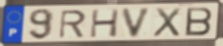9: (28, 8, 56, 41)
B: (184, 6, 214, 37)
H: (89, 8, 121, 39)
R: (58, 9, 88, 40)
V: (121, 7, 154, 39)
X: (151, 7, 182, 38)
